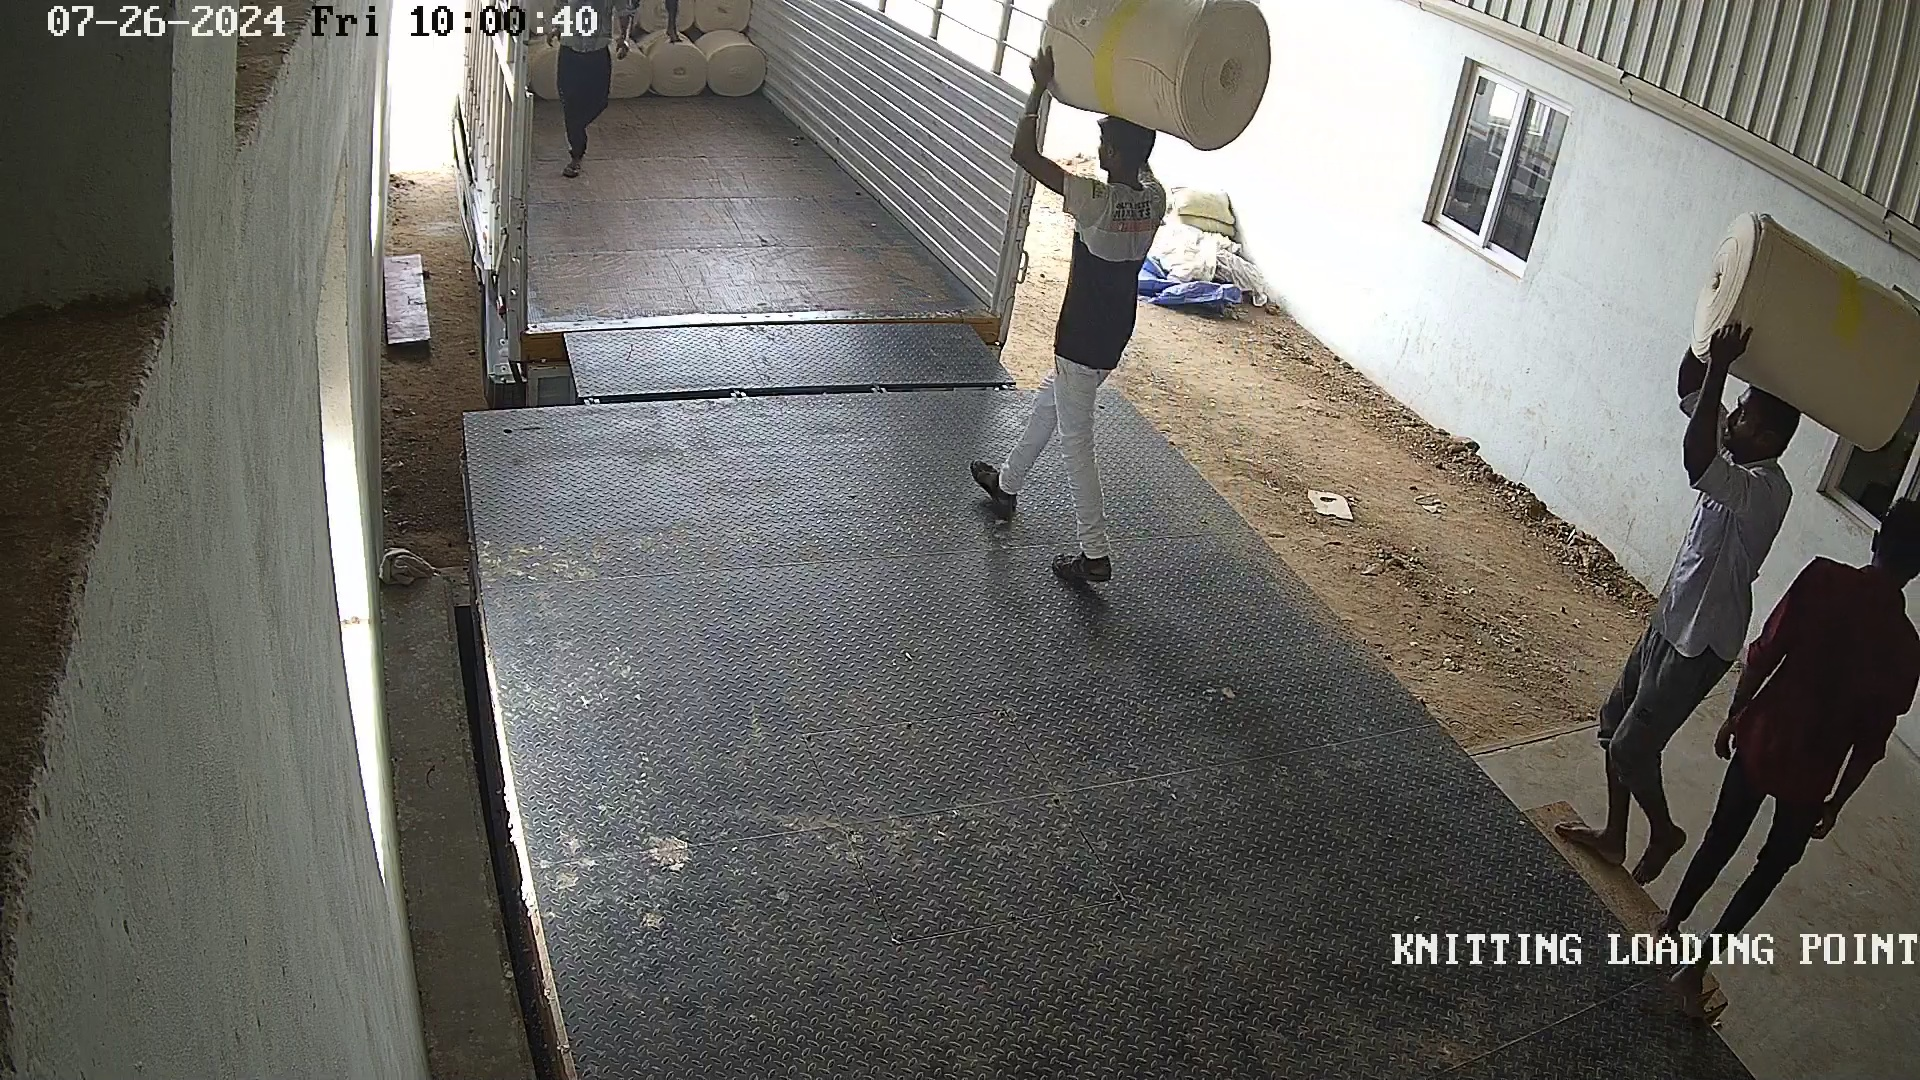bag: (1010, 1, 1286, 153)
